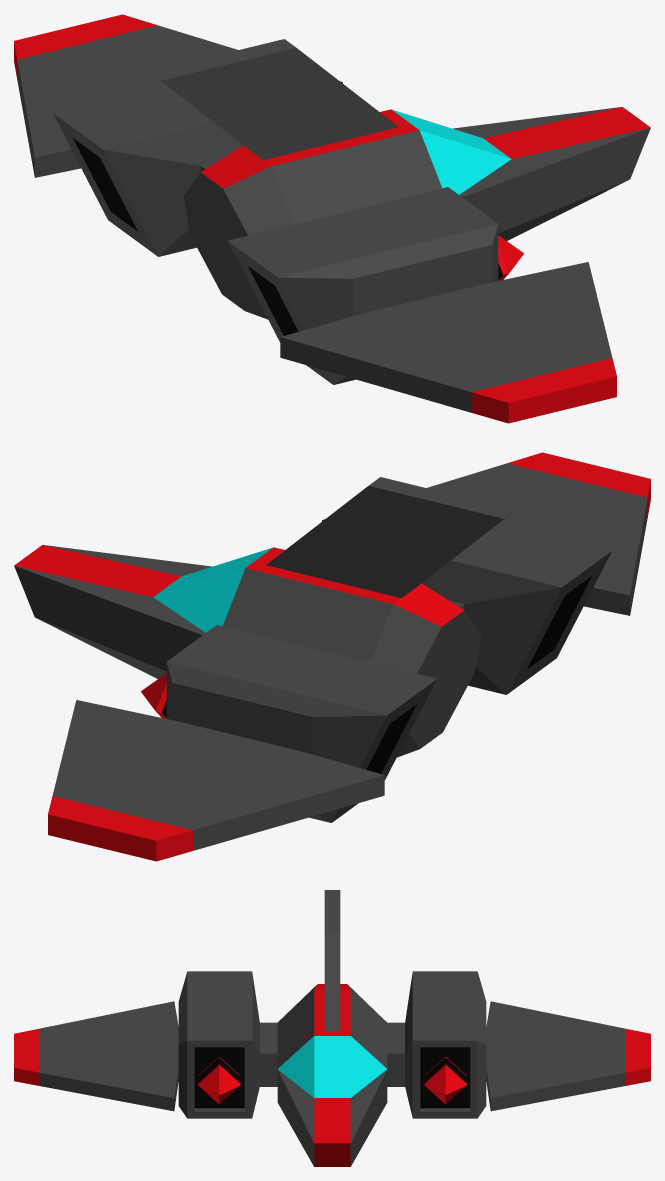
Rendered from Enemy_RocketJet.fbx.
3 views of the same model, one above another, from view 1: azimuth 30°, elevation 25°; view 2: azimuth 150°, elevation 25°; view 3: azimuth 270°, elevation 25° (orthographic). The views are drawn at different scales.
Parts seen in each view (by area): view 1: Cube, Projectile_Rocket; view 2: Cube, Projectile_Rocket; view 3: Cube, Projectile_Rocket.
Boxes of the visible parts, x1=… form: Cube: x1=14, y1=14, x2=650, y2=423; Projectile_Rocket: x1=498, y1=235, x2=523, y2=280; Cube: x1=14, y1=452, x2=650, y2=861; Projectile_Rocket: x1=141, y1=673, x2=166, y2=718; Cube: x1=14, y1=890, x2=650, y2=1166; Projectile_Rocket: x1=198, y1=1056, x2=466, y2=1104.
Bounding box in the file's own units: 652 × 335 × 1159.
